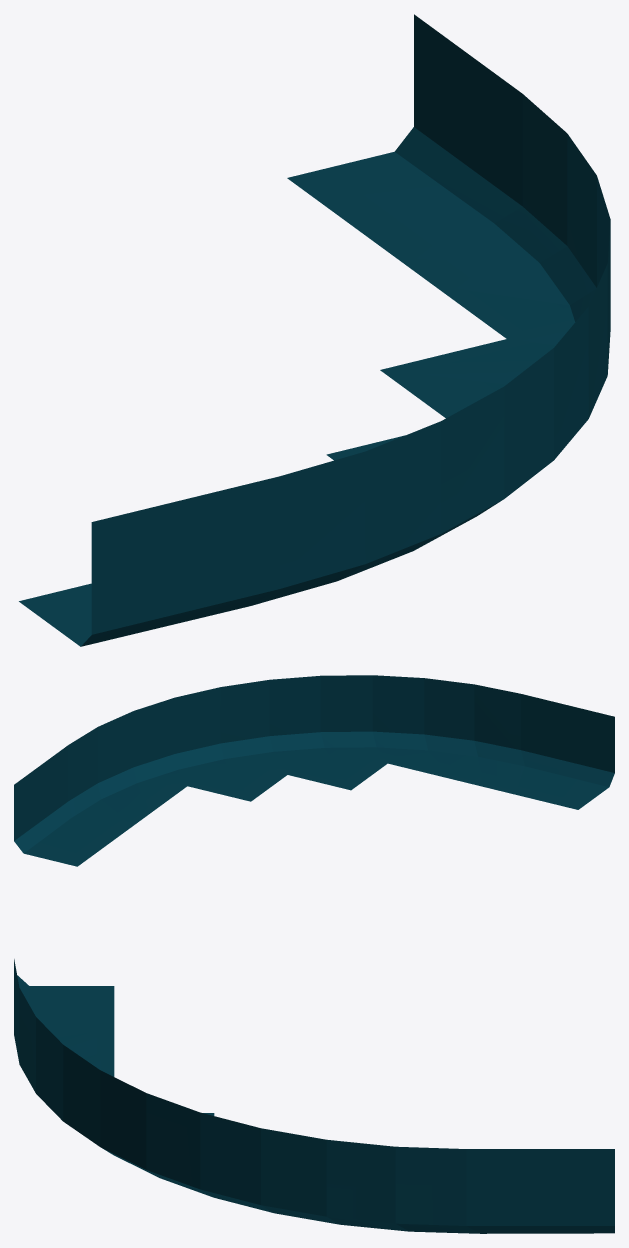
File: MB_Corner_Outer_Bottom_Wide.fbx
3 views of the same model, one above another, from view 1: azimuth 30°, elevation 25°; view 2: azimuth 150°, elevation 25°; view 3: azimuth 270°, elevation 25° (orthographic). The views are drawn at different scales.
Parts seen in each view (by area): view 1: Cube.6039; view 2: Cube.6039; view 3: Cube.6039.
Boxes of the visible parts, x1,y1,x2,y2 form: Cube.6039: (19, 14, 610, 646); Cube.6039: (14, 675, 614, 866); Cube.6039: (14, 959, 614, 1233).
Bounding box in the file's own units: 12 × 2 × 12.
